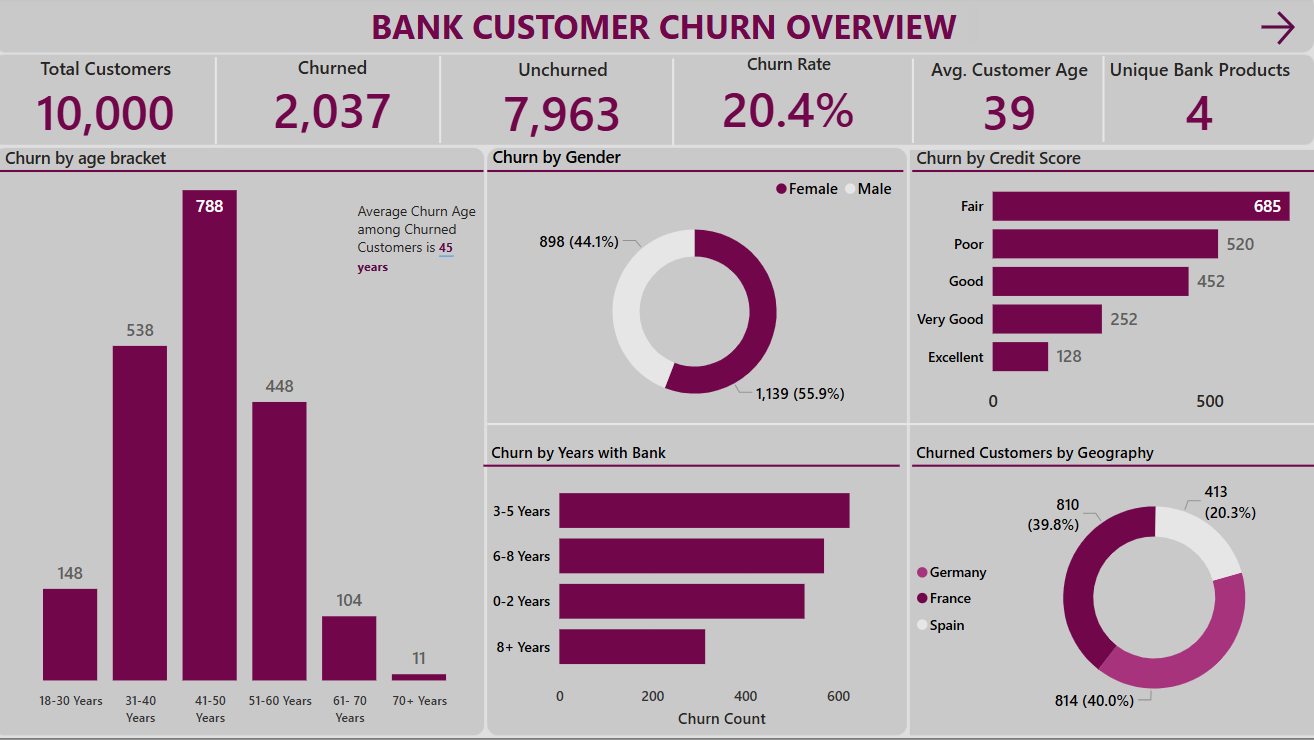

What the dashboard file says about the page in this screenshot:
{"tool":"powerbi","page":{"name":"Overview","canvas":[1280,720],"ordinal":0},"visuals":[{"type":"columnChart","title":"Churn by age bracket","fields":{"Category":["Bank Churn.Age Bracket"],"Y":["Bank Churn.Churned Customers"]},"box":[8.8,161.9,464.5,549.9],"z":0},{"type":"card","title":"Total Customers","fields":{"Values":["Bank Churn.Total Customers"]},"box":[26.4,57.7,168.2,81.6],"z":1000},{"type":"card","title":"Churned","fields":{"Values":["Bank Churn.Churned Customers"]},"box":[244.8,56.5,169.5,80.3],"z":2000},{"type":"card","title":"Unchurned","fields":{"Values":["Bank Churn.Unchurned Customers"]},"box":[473.3,59,158.2,81.6],"z":3000},{"type":"card","title":"Avg. Customer Age","fields":{"Values":["Avg(Bank Churn.Age)"]},"box":[898.9,59,168.2,80.3],"z":4000},{"type":"donutChart","fields":{"Category":["Bank Churn.Geography"],"Y":["Bank Churn.Churned Customers"]},"box":[887.6,429.3,391.7,282.5],"z":5000},{"type":"card","title":"Unique Bank Products","fields":{"Values":["Bank Churn.Unique Bank Products"]},"box":[1073.4,59,185.8,80.3],"z":6000},{"type":"clusteredBarChart","title":"Churn by Years with Bank","fields":{"Category":["Bank Churn.Years with Bank"],"Y":["Bank Churn.Churned Customers"]},"box":[478.3,429.3,401.7,282.5],"z":7000},{"type":"barChart","title":"Churn by Credit Score","fields":{"Category":["Bank Churn.Credit Score Status"],"Y":["Bank Churn.Churned Customers"]},"box":[887.6,161.9,391.7,251.1],"z":8000},{"type":"donutChart","title":"Churn by Gender","fields":{"Category":["Bank Churn.Gender"],"Y":["Bank Churn.Churned Customers"]},"box":[473.3,161.9,406.8,251.1],"z":9000},{"type":"shape","box":[478.8,406.4,410.4,13.2],"z":10000},{"type":"shape","box":[889.1,406.4,390.6,13.2],"z":11000},{"type":"shape","box":[204.6,59,23.9,84.1],"z":12000},{"type":"shape","box":[651.6,60.3,13.8,84.1],"z":13000},{"type":"shape","box":[423.1,57.7,20.1,84.1],"z":14000},{"type":"shape","box":[882.8,60.2,13.4,81.6],"z":15000},{"type":"shape","box":[1067.3,57.5,12,82.9],"z":16000},{"type":"shape","box":[6.3,178.3,467,15.1],"z":17000},{"type":"shape","box":[478.3,178.3,401.7,15.1],"z":18000},{"type":"shape","box":[887.6,178.3,390.4,15.1],"z":19000},{"type":"shape","box":[475.8,445.7,401.7,16.3],"z":20000},{"type":"shape","box":[888.8,445.7,391.7,16.3],"z":21000},{"type":"textbox","box":[348.7,2.4,609.3,50.7],"z":22000},{"type":"card","title":"Churn Rate","fields":{"Values":["Bank Churn.churn percentage"]},"box":[684.2,54,172,84.1],"z":23000},{"type":"textbox","box":[349,193.3,129.3,71.6],"z":24000},{"type":"actionButton","box":[1216.5,10,50.2,42.7],"z":25000}]}

Visuals, with their boxes in screenshot pixels (x1, y1, x2, y2), scaled from the page's 1280x720 canvas onto the 1314x740 screenshot:
"Churn by age bracket" columnChart: x1=9, y1=166, x2=486, y2=732
"Total Customers" card: x1=27, y1=59, x2=200, y2=143
"Churned" card: x1=251, y1=58, x2=425, y2=141
"Unchurned" card: x1=486, y1=61, x2=648, y2=145
"Avg. Customer Age" card: x1=923, y1=61, x2=1095, y2=143
donutChart - Bank Churn.Geography x Bank Churn.Churned Customers: x1=911, y1=441, x2=1313, y2=732
"Unique Bank Products" card: x1=1102, y1=61, x2=1293, y2=143
"Churn by Years with Bank" clusteredBarChart: x1=491, y1=441, x2=903, y2=732
"Churn by Credit Score" barChart: x1=911, y1=166, x2=1313, y2=424
"Churn by Gender" donutChart: x1=486, y1=166, x2=903, y2=424
shape: x1=492, y1=418, x2=913, y2=431
shape: x1=913, y1=418, x2=1313, y2=431
shape: x1=210, y1=61, x2=235, y2=147
shape: x1=669, y1=62, x2=683, y2=148
shape: x1=434, y1=59, x2=455, y2=146
shape: x1=906, y1=62, x2=920, y2=146
shape: x1=1096, y1=59, x2=1108, y2=144
shape: x1=6, y1=183, x2=486, y2=199
shape: x1=491, y1=183, x2=903, y2=199
shape: x1=911, y1=183, x2=1312, y2=199
shape: x1=488, y1=458, x2=901, y2=475
shape: x1=912, y1=458, x2=1313, y2=475
textbox: x1=358, y1=2, x2=983, y2=55
"Churn Rate" card: x1=702, y1=55, x2=879, y2=142
textbox: x1=358, y1=199, x2=491, y2=272
actionButton: x1=1249, y1=10, x2=1300, y2=54
